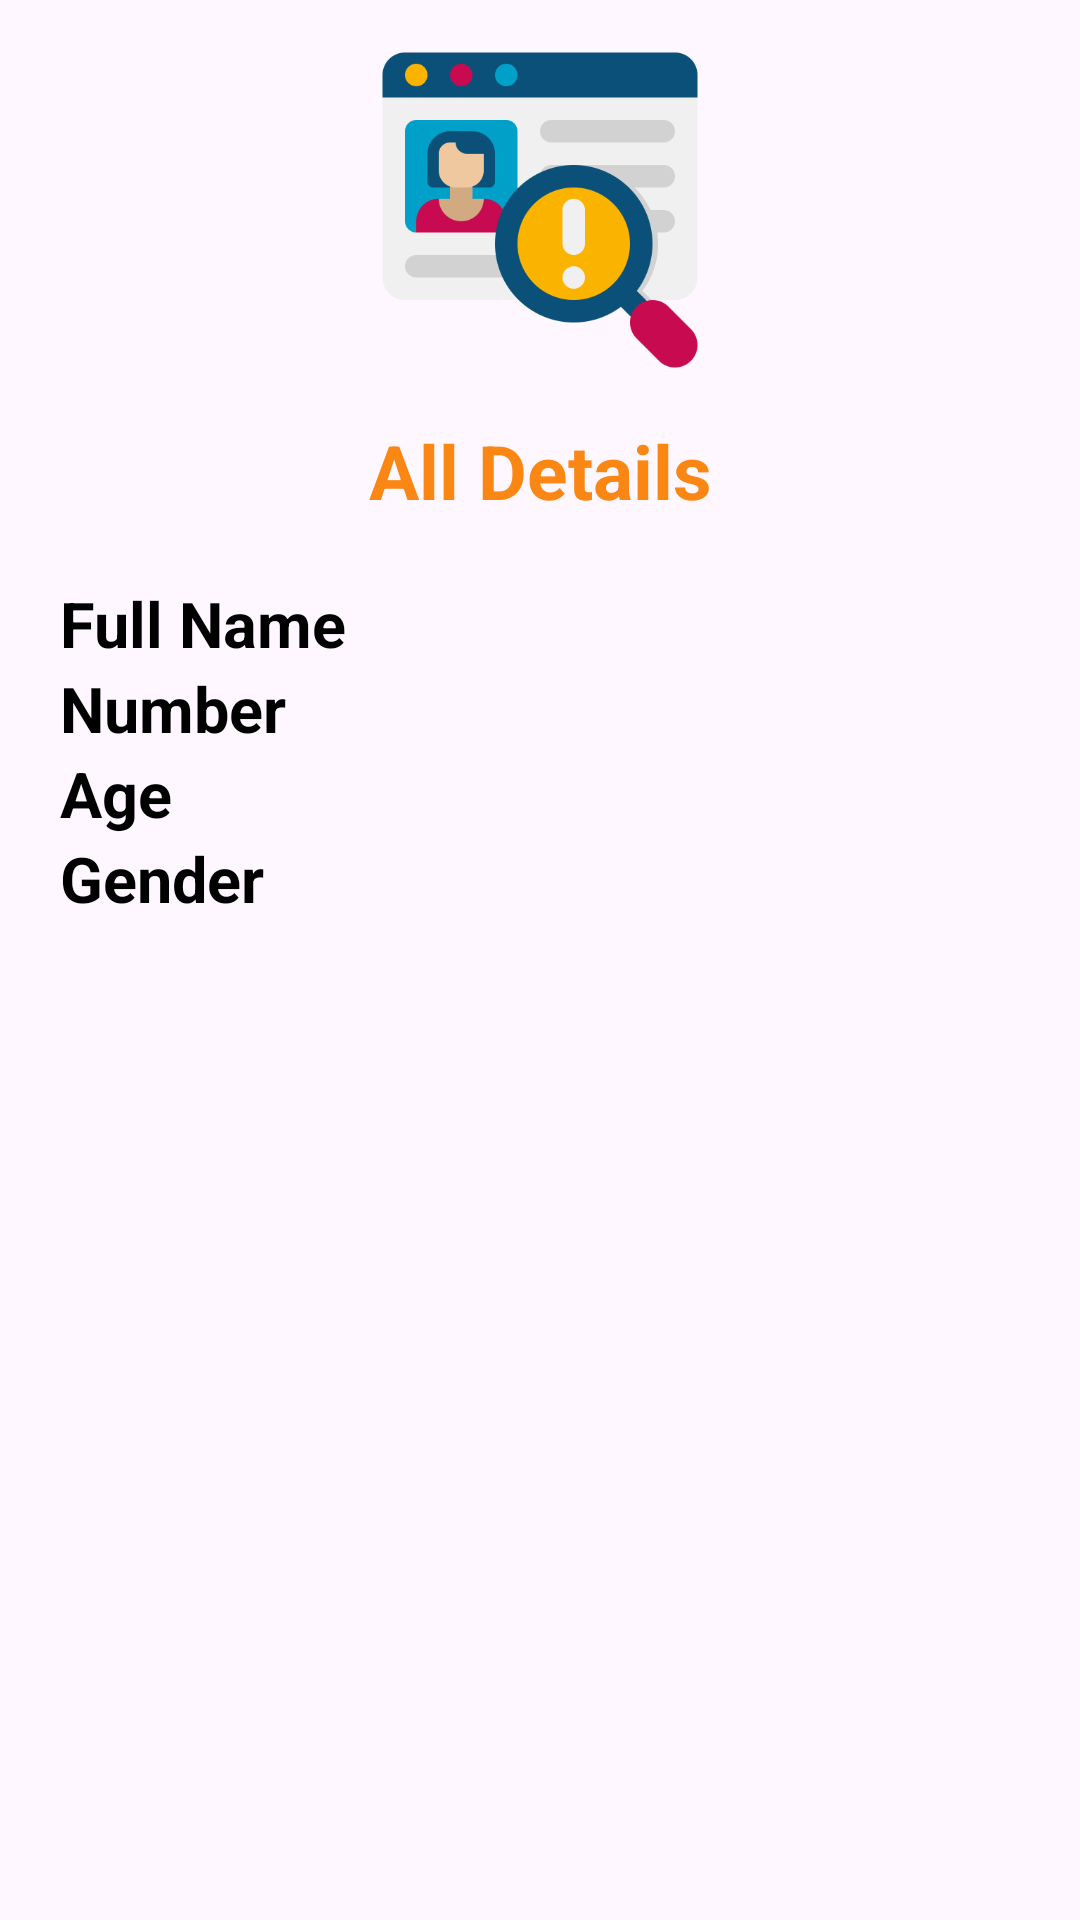

Icon click points for this 1080×1920 phone screenshot, format point (x, y):
info: point (540, 210)
